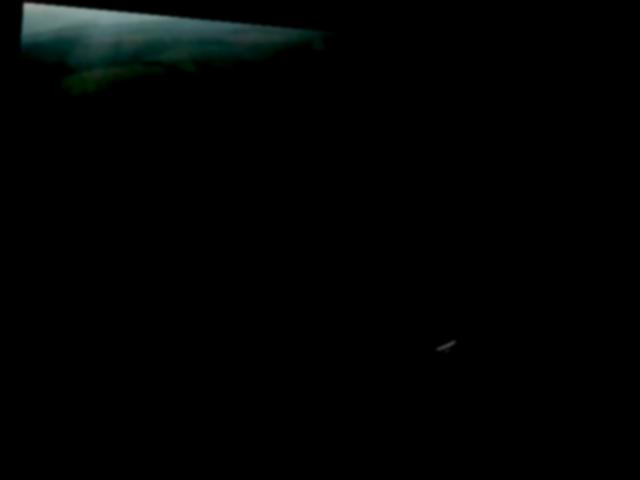iha: (431, 328, 455, 346)
